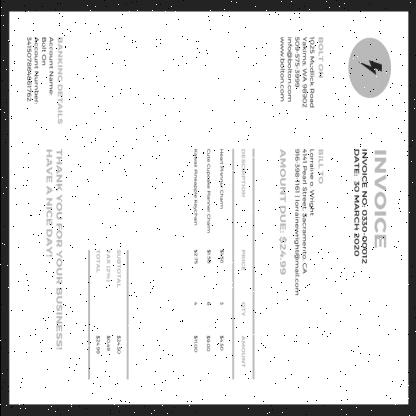Paragraph: (88, 249, 128, 380), (291, 146, 325, 299), (350, 146, 388, 268), (42, 146, 64, 354), (23, 33, 65, 128), (276, 34, 326, 112), (276, 146, 288, 278)
Table: (190, 147, 254, 379)
